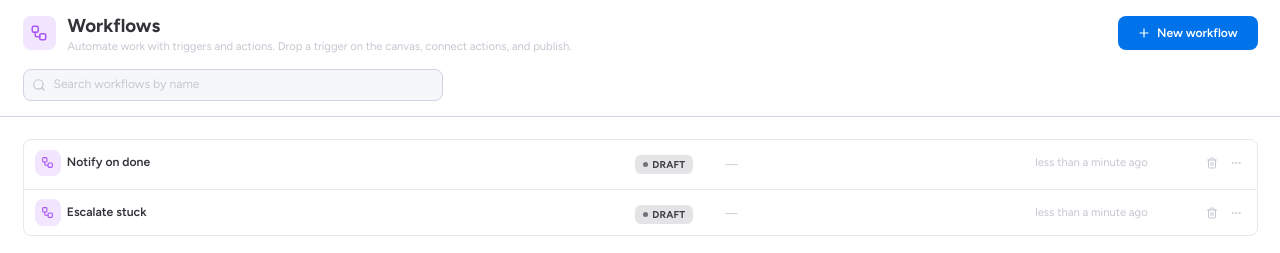
Test: WorkflowsListPage › search filter narrows the visible workflow list (client-side)
Expected: the text "Notify on done" is shown, [67,154,150,169]
In the field with placeholder "Search workflows by name": (232, 85) [22,69,442,101], type "escalate"
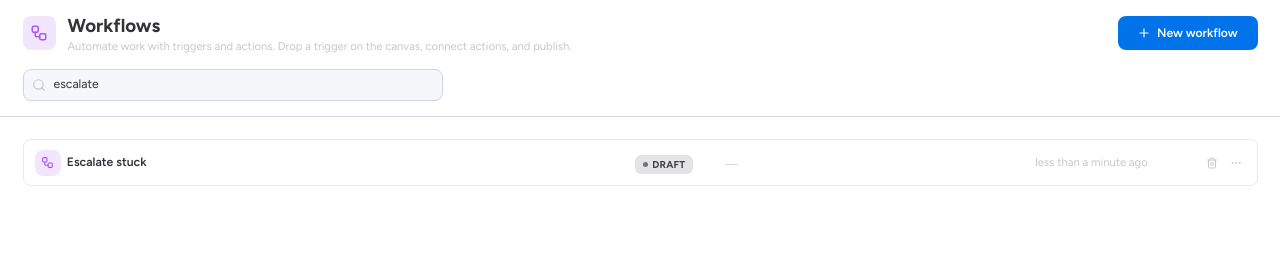
Expected: the text "Escalate stuck" is shown, [67,154,146,169]
Expected: the button "Notify on done" is gone
